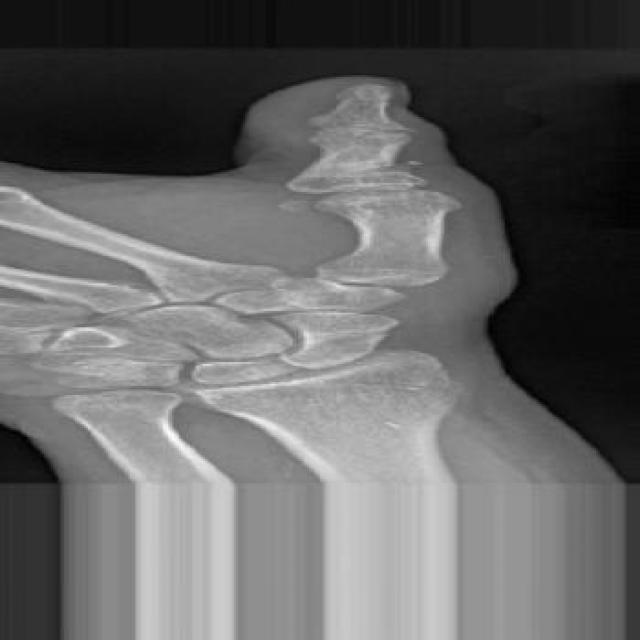Fracture: (264, 177, 349, 220)
